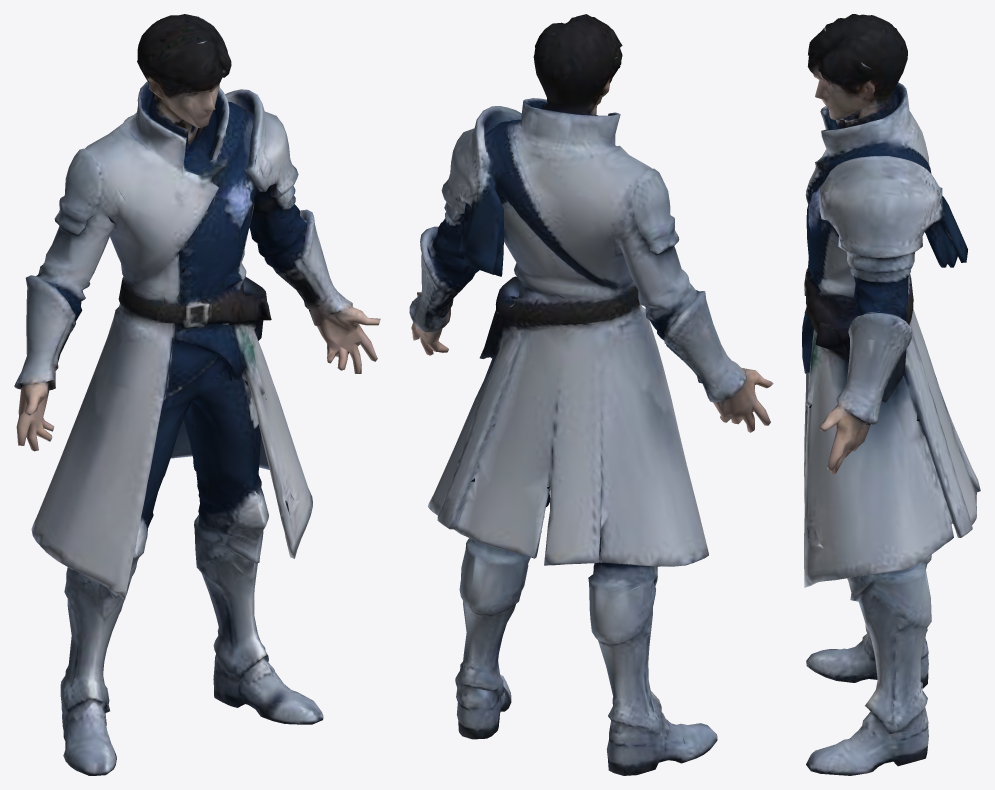
File: outfit_leader_coat_t1_m.glb
The picture shows the model from 3 angles, left to right: view 1: azimuth 30°, elevation 25°; view 2: azimuth 150°, elevation 25°; view 3: azimuth 270°, elevation 25°; orthographic projection.
Visible parts, largest first — view 1: outfit_leader_coat_t1_m; view 2: outfit_leader_coat_t1_m; view 3: outfit_leader_coat_t1_m.
Boxes of the visible parts, x1,y1,x2,y2 form: outfit_leader_coat_t1_m: (14, 14, 380, 775); outfit_leader_coat_t1_m: (409, 14, 773, 775); outfit_leader_coat_t1_m: (802, 14, 980, 775).
Size of the model in its own units: 0.974 by 1.85 by 0.4272.
1 material, 1 textured.
